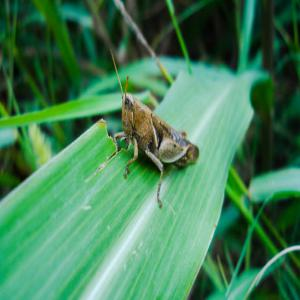locust: (112, 55, 199, 216)
